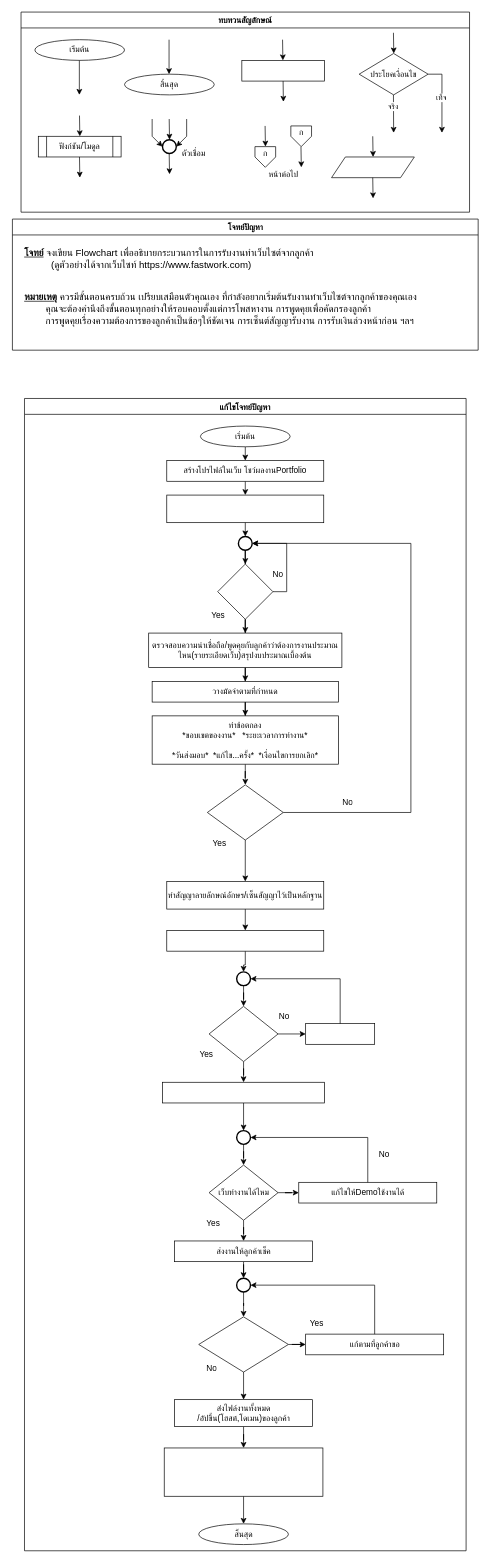
Image size: 490x1563. Some labels were removed from this diagram. The shapes that lost their labels are listed below. From the top down, each one's box as (x1, y1, x2, y2) in pixels, then its label:
(241, 60, 325, 81): กระบวนการ
(331, 156, 414, 178): แสดงผล/รับค่า
(166, 494, 324, 523): ระบุประเภทเว็บที่ทำ โพสต์งานตั้งราคาให้เข้าใจได้ง่าย
(217, 563, 273, 619): ลูกค้าสนใจ
(207, 784, 283, 840): ลูกค้า/เราโอเคไหม
(166, 930, 324, 951): โอนเงินค่ามัดจำ 30-50%
(208, 1006, 278, 1062): ได้รับเงินหรือยัง
(305, 1023, 375, 1044): รอเงินเข้า
(162, 1082, 325, 1103): ทำงานเว็บไซต์ตามแผนที่พูดคุยกับลูกค้าไว้
(198, 1316, 288, 1372): ลูกค้าอยากให้แก้ไหม
(164, 1447, 323, 1496): แนะนำวิธีใช้งานระบบหลังบ้าน พร้อมชี้แจงอีกครั้งว่าระยะการดูแลมีกี่วัน/เดือน
